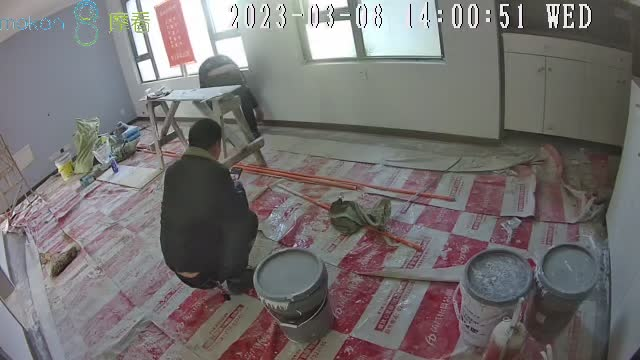people: (159, 119, 258, 292), (200, 54, 265, 141)
window: (116, 1, 446, 82)
